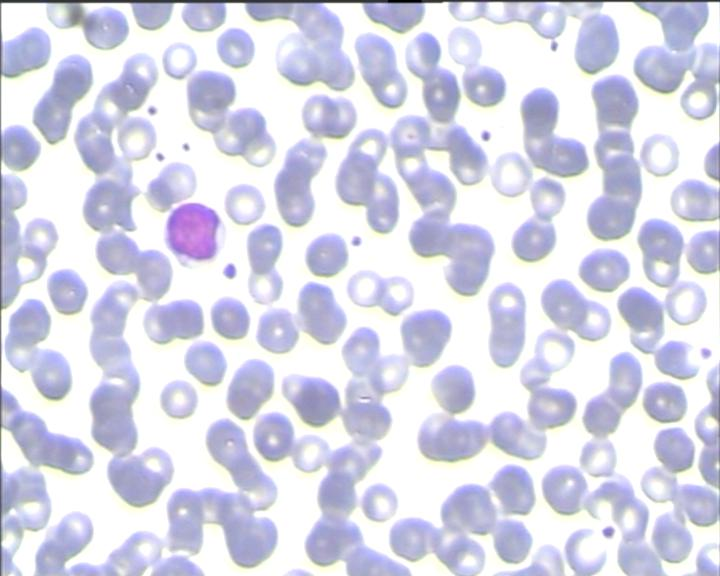lymp: (163, 203, 231, 270)
